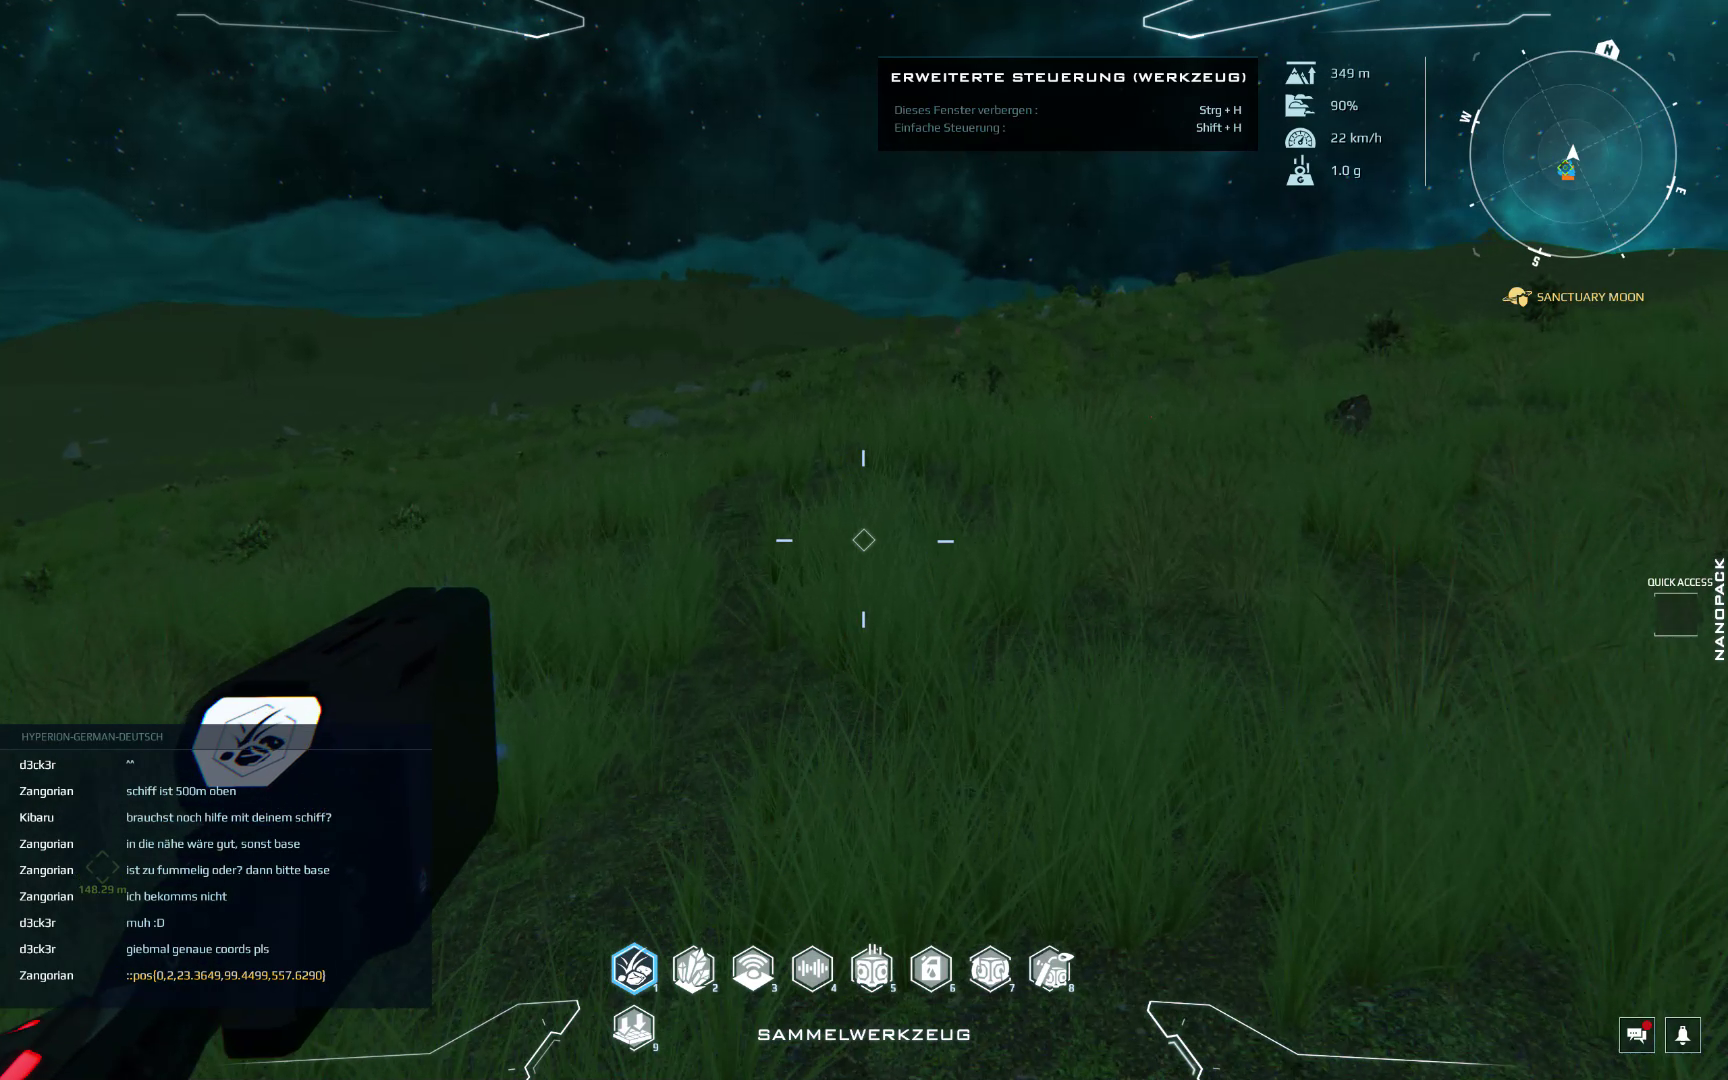Ore: (1325, 391, 1375, 438)
